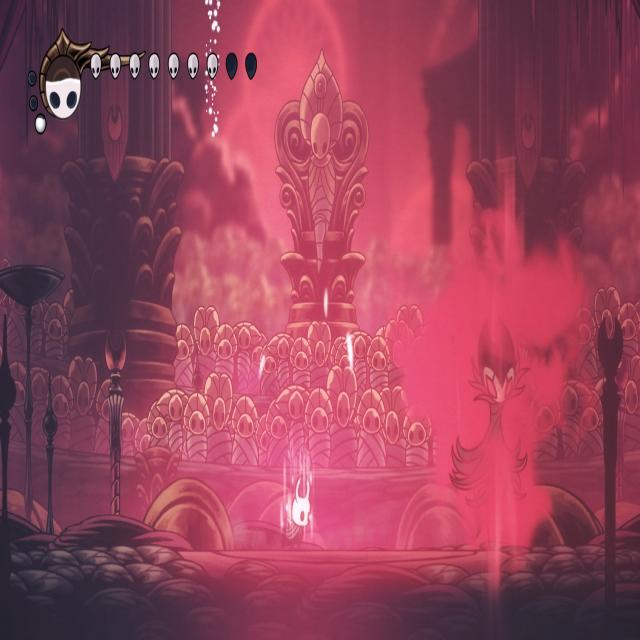Grimm: (446, 307, 530, 552)
Player: (281, 458, 314, 554)
